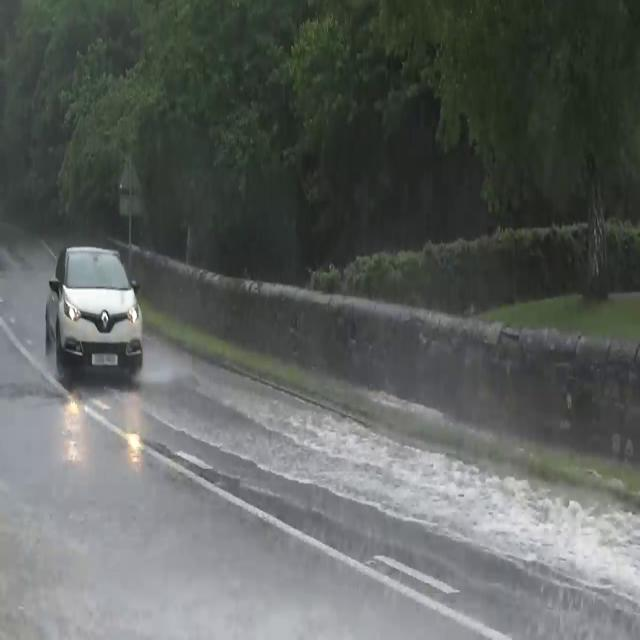license-plate-annotation: (92, 350, 122, 368)
